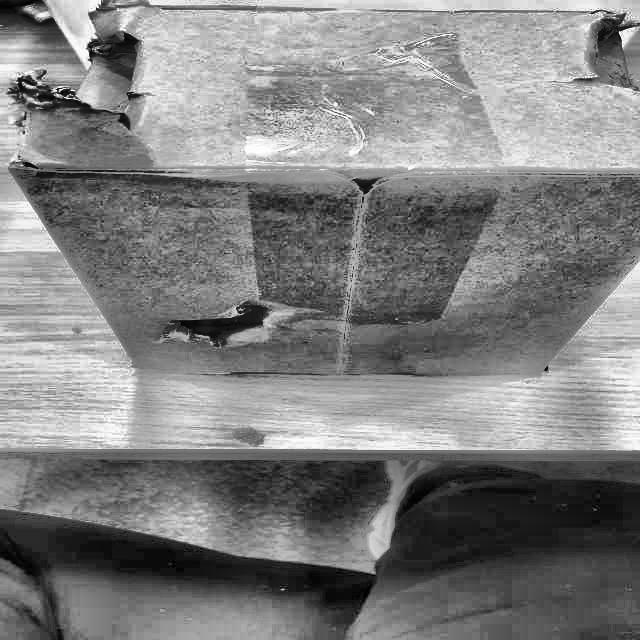box: (0, 3, 640, 394)
hole: (12, 13, 170, 175), (166, 292, 270, 356), (572, 8, 640, 105)
